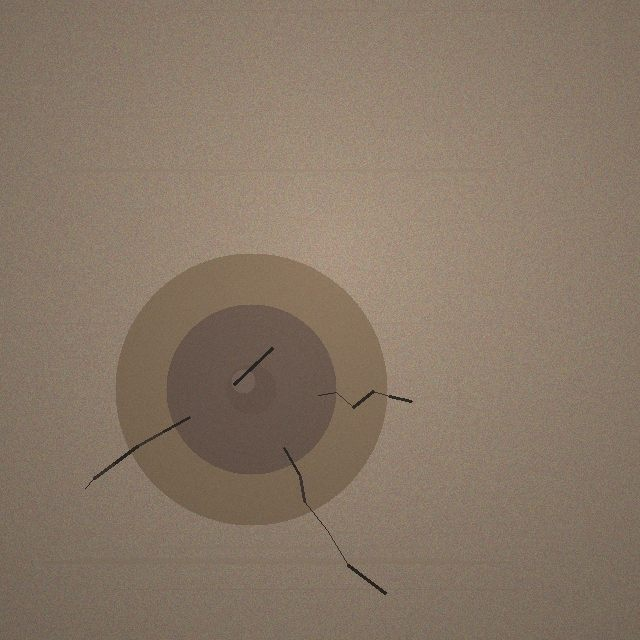crack: (115, 253, 387, 525)
